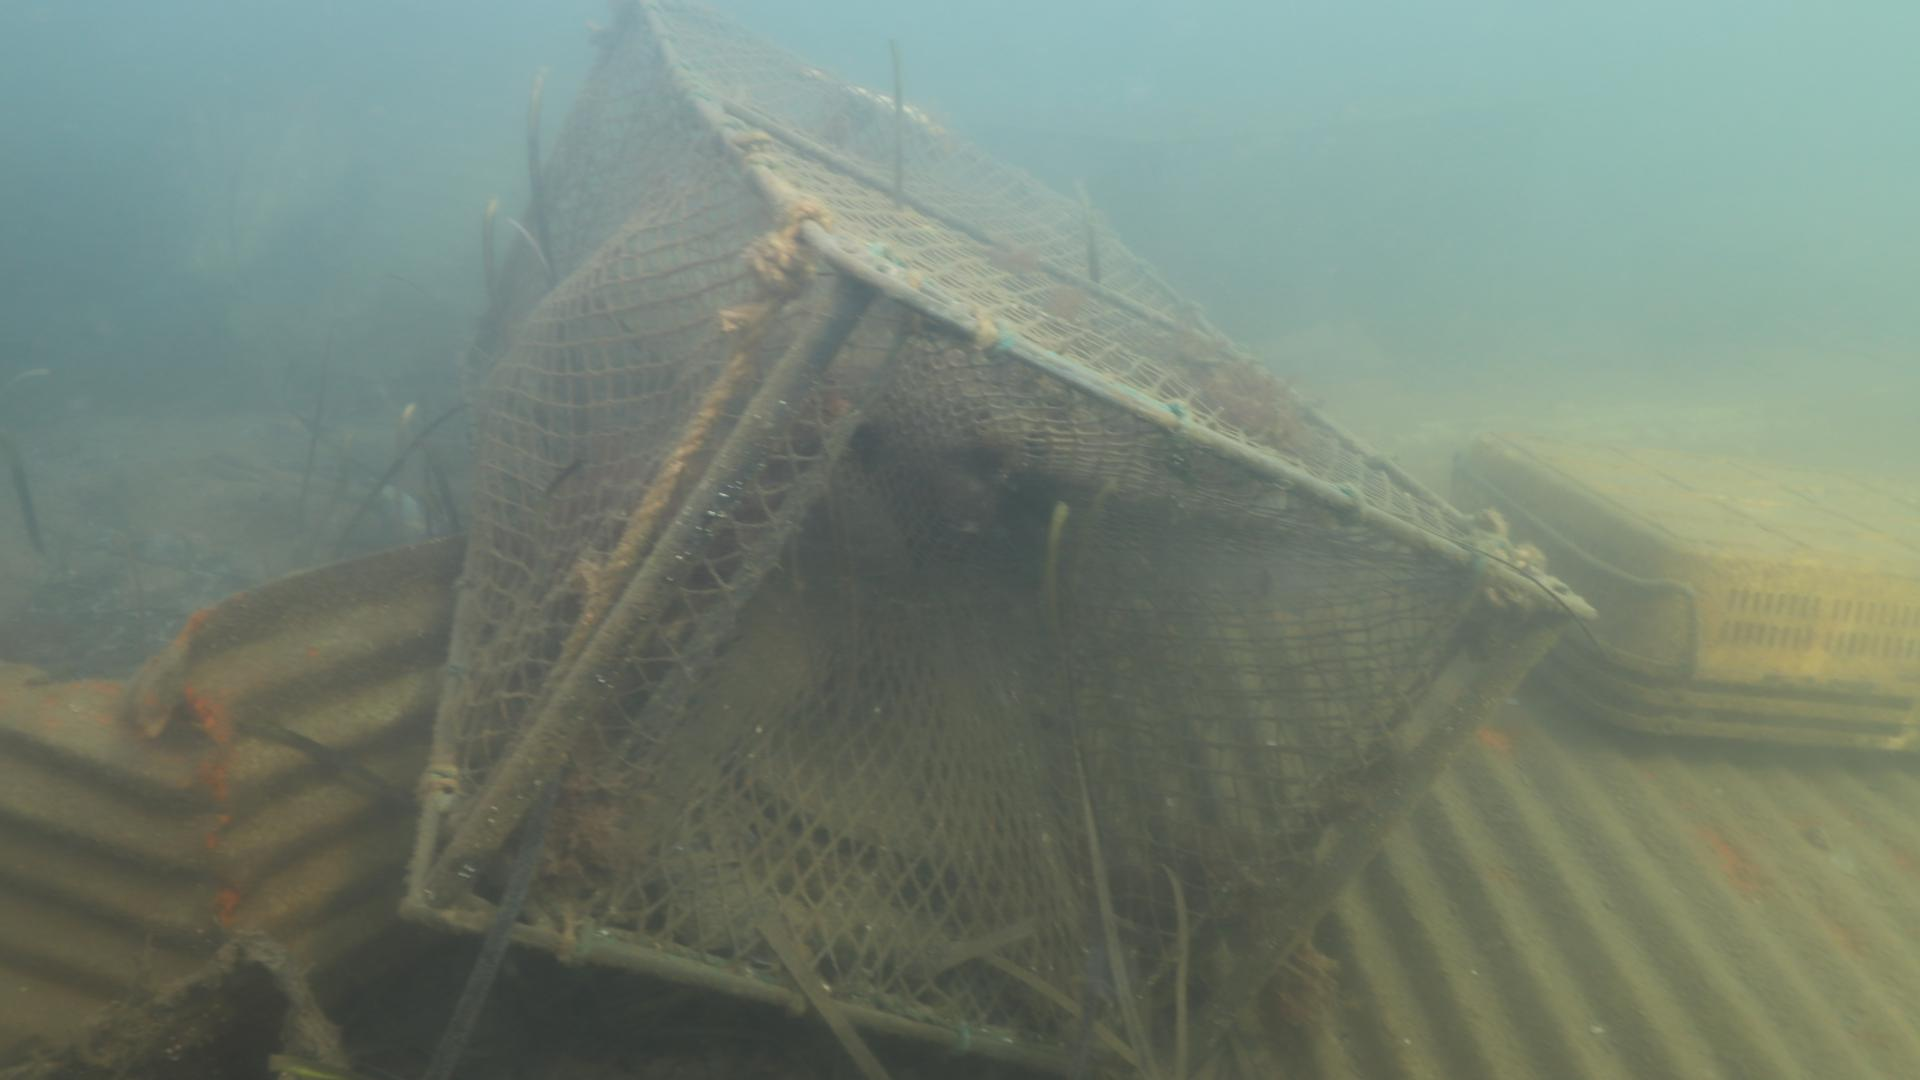rectangular fish trap: (396, 0, 1604, 1080)
